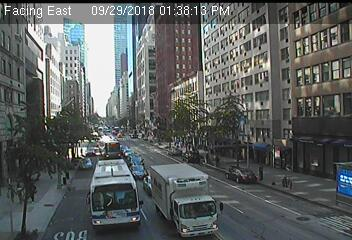car: (150, 165, 223, 239), (87, 160, 143, 229), (225, 167, 256, 184), (143, 175, 161, 196), (103, 141, 120, 158), (181, 151, 199, 165), (129, 165, 146, 179), (126, 154, 144, 167), (79, 158, 94, 170), (166, 147, 179, 156), (123, 148, 135, 157), (85, 149, 95, 157)
